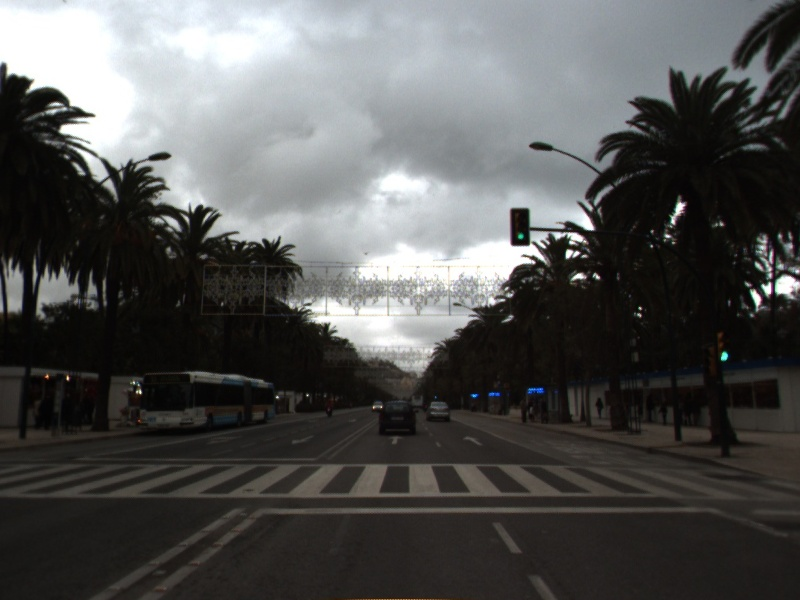STRAIGHT: (461, 434, 484, 447), (386, 433, 406, 446)
